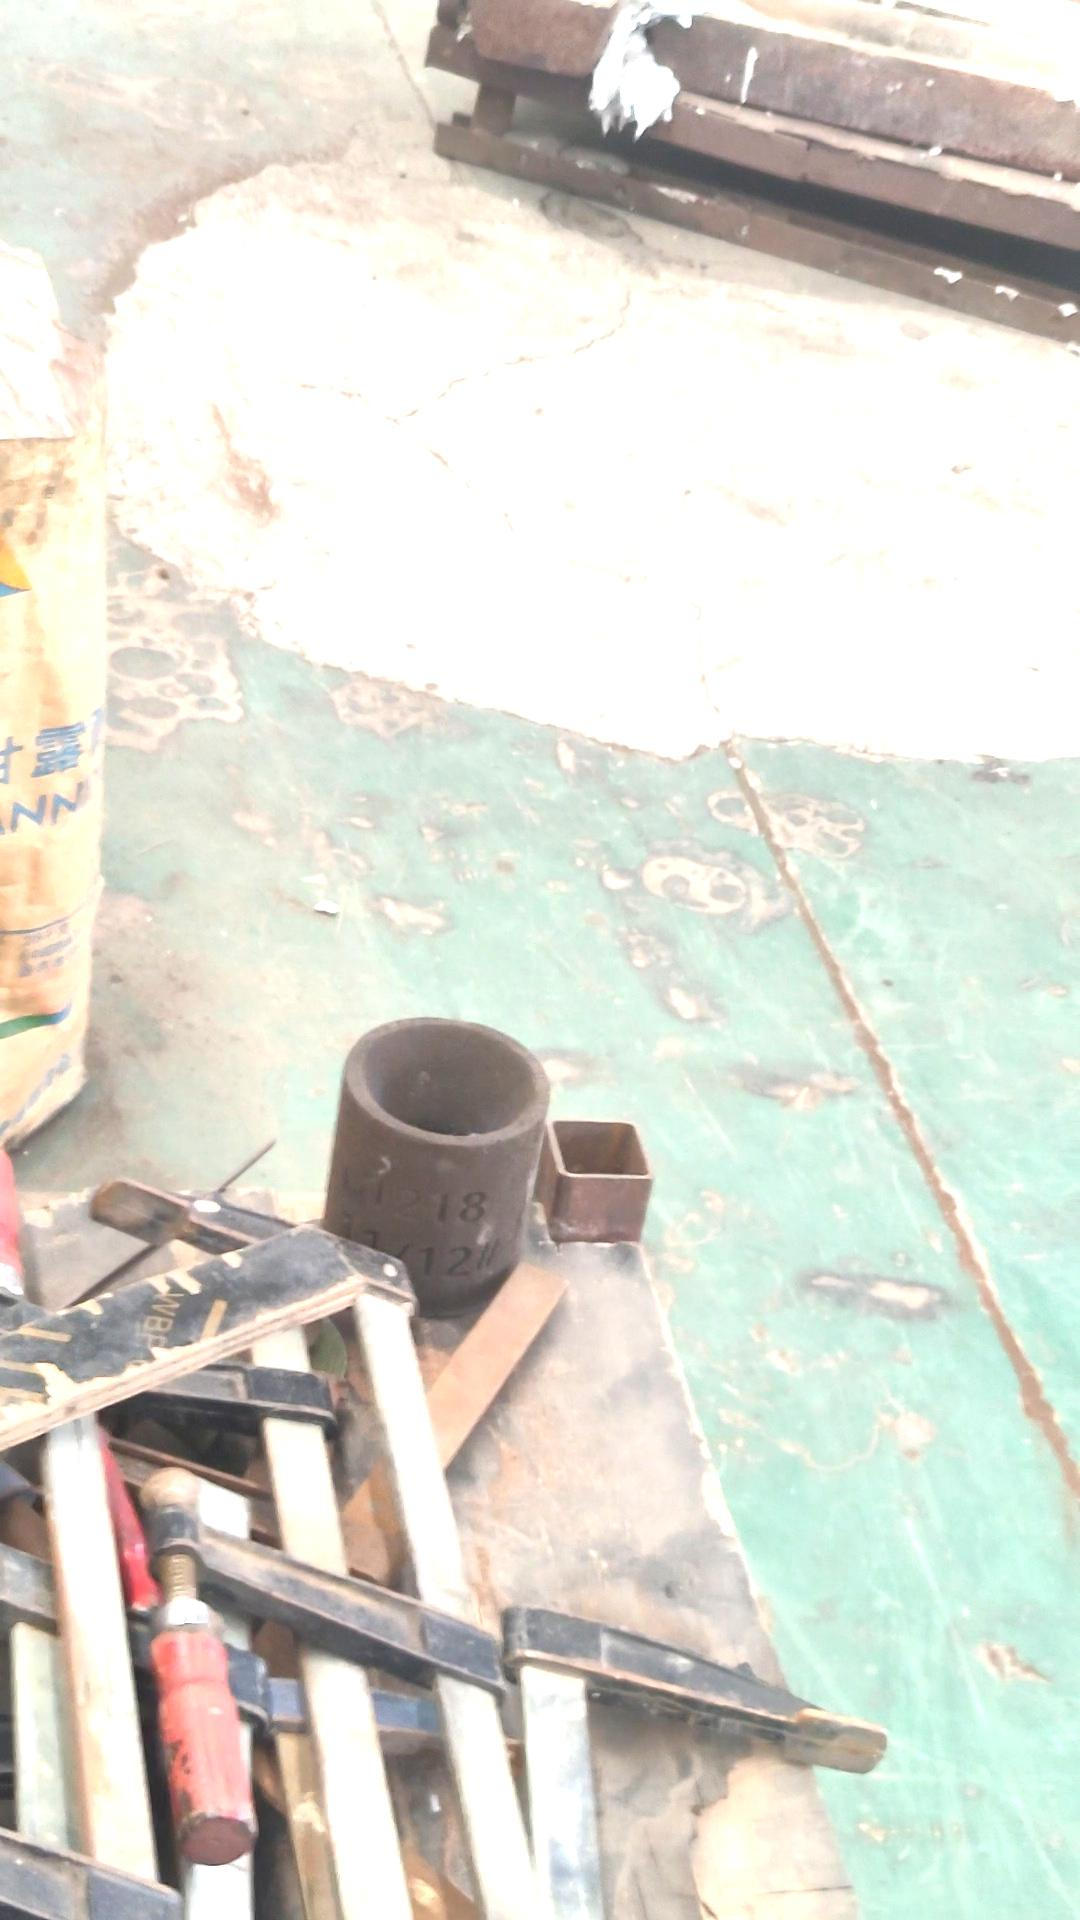pouring hole: (345, 1017, 545, 1139)
